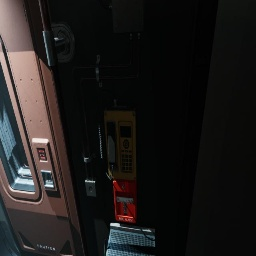EmergencyPhone ,: (97, 89, 137, 180)
FireAlarm ,: (113, 178, 137, 223)
